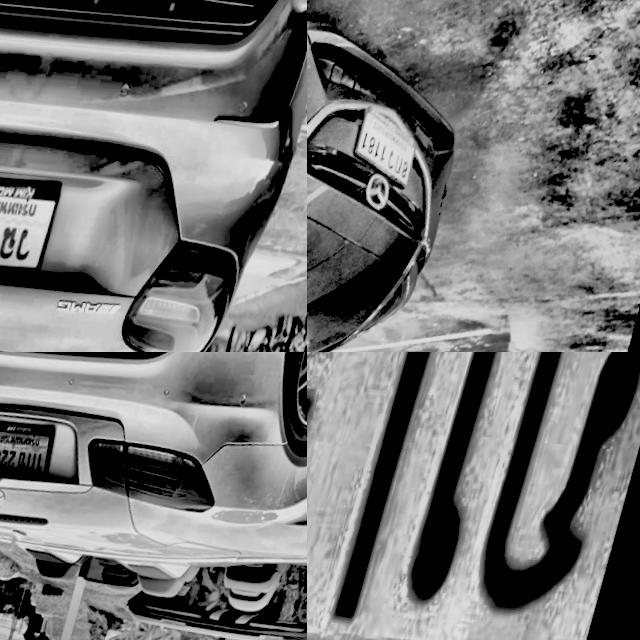license-plate: (307, 352, 640, 640), (0, 166, 71, 296), (347, 102, 436, 200), (0, 402, 71, 502)
